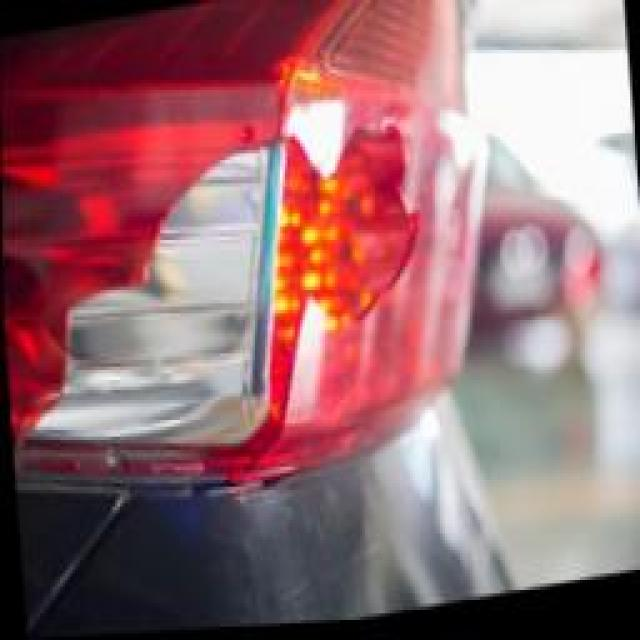Light: (0, 7, 447, 524)
